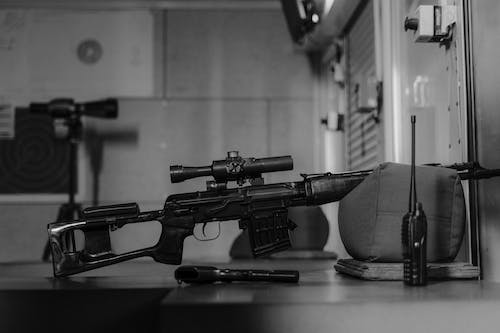gun: (43, 148, 500, 281), (170, 261, 302, 288)
